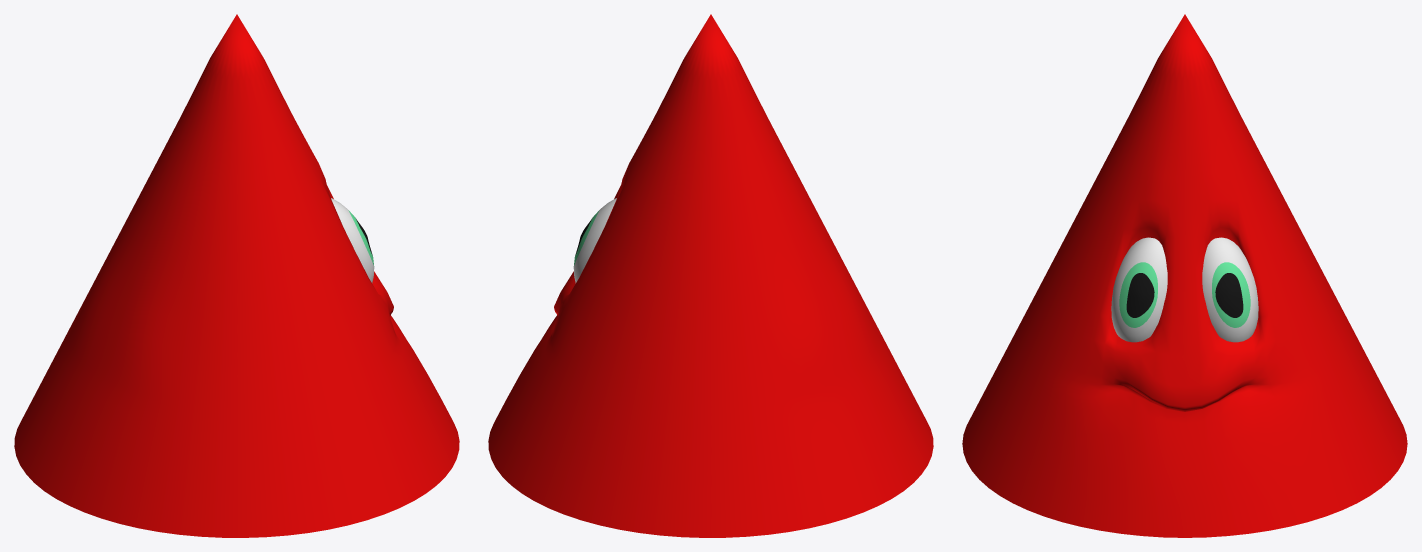
File: конус.glb
3 views of the same model, side by side, from view 1: azimuth 30°, elevation 25°; view 2: azimuth 150°, elevation 25°; view 3: azimuth 270°, elevation 25° (orthographic).
Visible parts, largest first — view 1: Circle, Sphere; view 2: Circle, Sphere; view 3: Circle, Sphere.
Part boxes in pixels (x1,y1,x2,y2): Circle: (14,14,459,537); Sphere: (331,198,374,283); Circle: (488,14,933,537); Sphere: (573,198,616,283); Circle: (962,14,1407,537); Sphere: (1111,237,1258,342).
Size of the model in its own units: 1.99 by 2.12 by 1.99.
